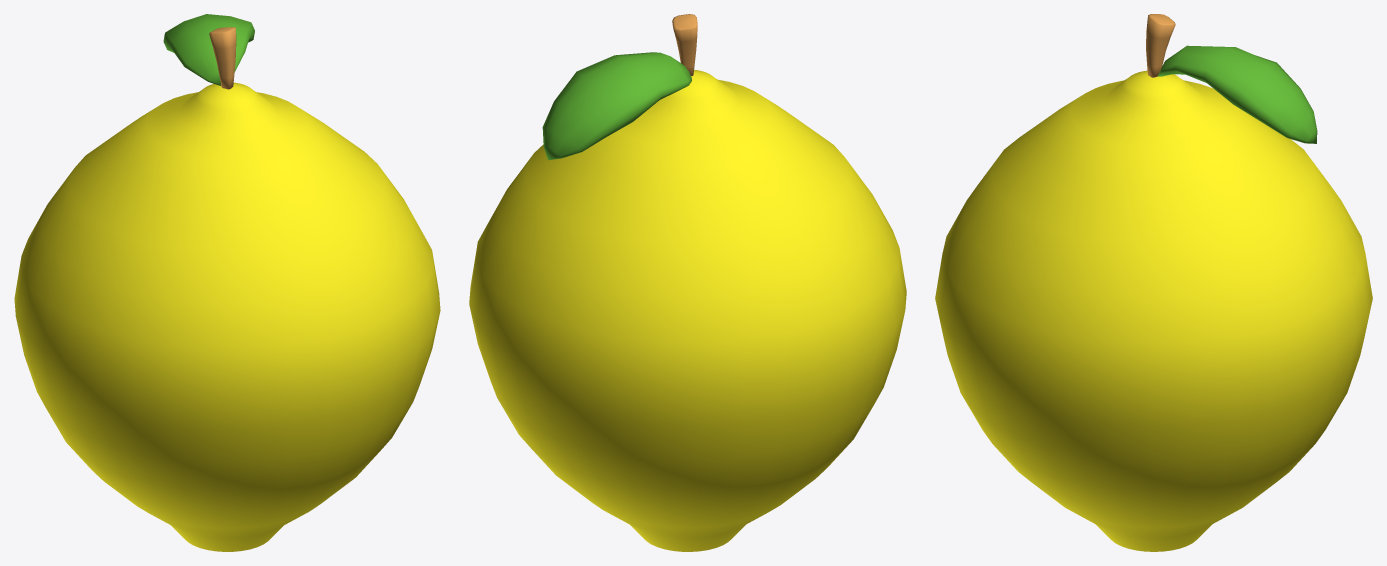
File: Limon.fbx
3 renders of one model, left to right at view 1: azimuth 30°, elevation 25°; view 2: azimuth 150°, elevation 25°; view 3: azimuth 270°, elevation 25°, orthographic. The views are drawn at different scales.
Visible parts, largest first — view 1: LimonMain_Export, Leaf.004_Export, Rootlet.002_Export; view 2: LimonMain_Export, Leaf.004_Export, Rootlet.002_Export; view 3: LimonMain_Export, Leaf.004_Export, Rootlet.002_Export.
Boxes of the visible parts, box(x1,y1,x2,y2) form: LimonMain_Export: box(14, 82, 440, 551); Leaf.004_Export: box(163, 14, 254, 85); Rootlet.002_Export: box(209, 27, 236, 89); LimonMain_Export: box(469, 70, 906, 551); Leaf.004_Export: box(542, 52, 691, 160); Rootlet.002_Export: box(672, 14, 697, 76); LimonMain_Export: box(935, 70, 1372, 551); Leaf.004_Export: box(1158, 45, 1317, 143); Rootlet.002_Export: box(1146, 14, 1175, 77).
Bounding box in the file's own units: 15.48 × 20.85 × 15.48.
Materials: 3 (3 with a texture image).
